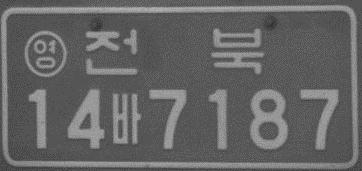1: (201, 88, 240, 151), (20, 87, 59, 149)
4: (66, 89, 104, 148)
7: (298, 87, 340, 152), (147, 87, 187, 149)
8: (248, 88, 289, 151)
바: (111, 91, 141, 145)
영: (23, 29, 68, 78)
전북_D: (81, 27, 263, 78)
